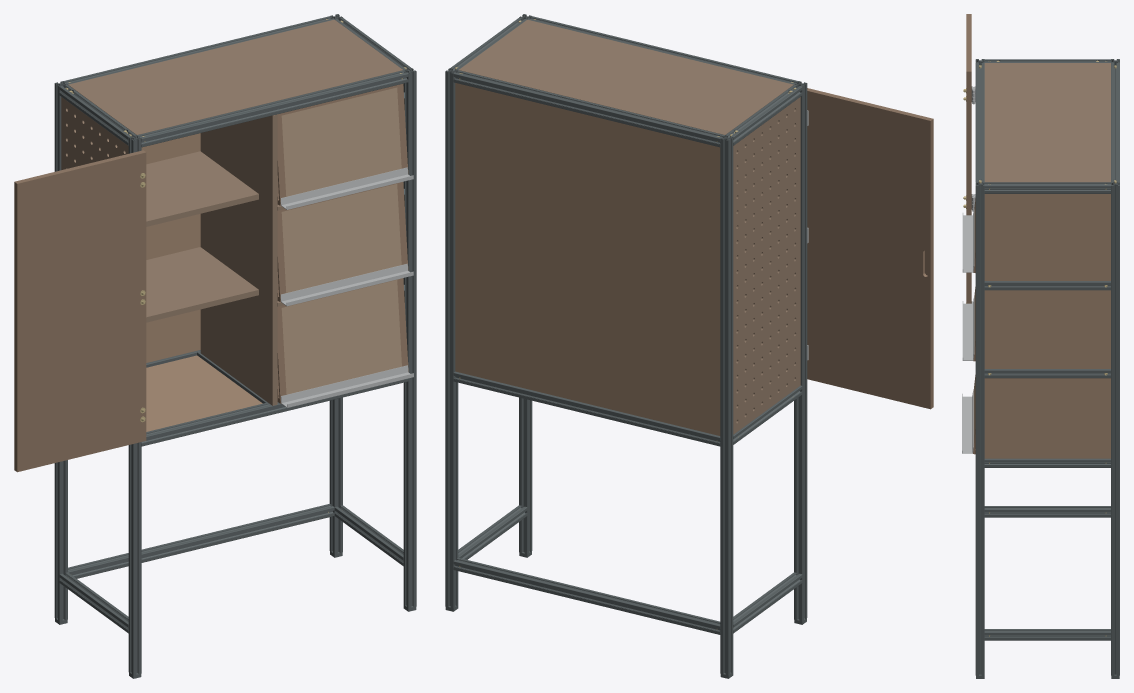
Rendered from cabinet-180.glb.
3 views of the same model, side by side, from view 1: azimuth 30°, elevation 25°; view 2: azimuth 150°, elevation 25°; view 3: azimuth 270°, elevation 25° (orthographic). The views are drawn at different scales.
Visible parts, largest first — view 1: Left-door-face-18, Top-18, Center-18, Plywood-infill-6-1, Plywood-infill-6-3, Plywood-infill-6-2, Post-966-23, Floor-Left-8, Shelf-Left-1, Shelf-Left-2, Back-infill-8, Beam-top-front (+19 smaller); view 2: Back-infill-8, Left-door-face-18, Left-pegboard-18, Top-18, Post-4-470, Post-966-470, Post-4-23, Beam-top-rear, Beam-lower-rear, Beam-body-rear, Post-966-23, Beam-top-front (+4 smaller); view 3: Top-18, Right-infill-8-3, Right-infill-8-1, Right-infill-8-2, Post-966-23, Post-966-470, Beam-lower-side-4, Beam-lower-side-966, Beam-top-side-966, Left-door-face-18, Beam-body-side-966, Beam-right-shelf-2 (+7 smaller).
Part boxes in pixels (x1=…): Left-door-face-18: x1=14, y1=150, x2=146, y2=472; Top-18: x1=68, y1=19, x2=402, y2=134; Center-18: x1=200, y1=114, x2=277, y2=405; Plywood-infill-6-1: x1=281, y1=280, x2=401, y2=394; Plywood-infill-6-3: x1=281, y1=87, x2=401, y2=196; Plywood-infill-6-2: x1=281, y1=184, x2=401, y2=292; Post-966-23: x1=403, y1=68, x2=416, y2=608; Floor-Left-8: x1=146, y1=355, x2=262, y2=431; Shelf-Left-1: x1=146, y1=247, x2=258, y2=322; Shelf-Left-2: x1=146, y1=151, x2=258, y2=226; Back-infill-8: x1=141, y1=133, x2=200, y2=362; Beam-top-front: x1=137, y1=70, x2=408, y2=147; Back-infill-8: x1=455, y1=83, x2=720, y2=435; Left-door-face-18: x1=807, y1=88, x2=933, y2=409; Left-pegboard-18: x1=733, y1=97, x2=800, y2=434; Top-18: x1=459, y1=19, x2=793, y2=134; Post-4-470: x1=720, y1=135, x2=733, y2=675; Post-966-470: x1=445, y1=68, x2=458, y2=608; Post-4-23: x1=794, y1=81, x2=807, y2=621; Beam-top-rear: x1=453, y1=70, x2=724, y2=147; Beam-lower-rear: x1=453, y1=558, x2=720, y2=634; Beam-body-rear: x1=453, y1=371, x2=720, y2=446; Post-966-23: x1=519, y1=14, x2=532, y2=554; Beam-top-front: x1=528, y1=16, x2=798, y2=84; Top-18: x1=984, y1=63, x2=1110, y2=182; Right-infill-8-3: x1=984, y1=194, x2=1110, y2=280; Right-infill-8-1: x1=984, y1=378, x2=1110, y2=458; Right-infill-8-2: x1=984, y1=290, x2=1110, y2=368; Post-966-23: x1=975, y1=182, x2=984, y2=675; Post-966-470: x1=1111, y1=182, x2=1119, y2=675; Beam-lower-side-4: x1=984, y1=506, x2=1110, y2=517; Beam-lower-side-966: x1=984, y1=629, x2=1110, y2=640; Beam-top-side-966: x1=984, y1=182, x2=1110, y2=193; Left-door-face-18: x1=966, y1=14, x2=971, y2=303; Beam-body-side-966: x1=984, y1=458, x2=1110, y2=467; Beam-right-shelf-2: x1=984, y1=281, x2=1110, y2=290.
Bounding box in the file's own units: 1.42 × 1.8 × 0.5224.
